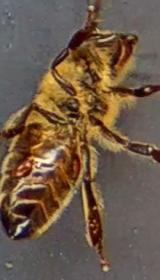varroa_mite: (7, 149, 43, 183), (66, 147, 92, 186)
